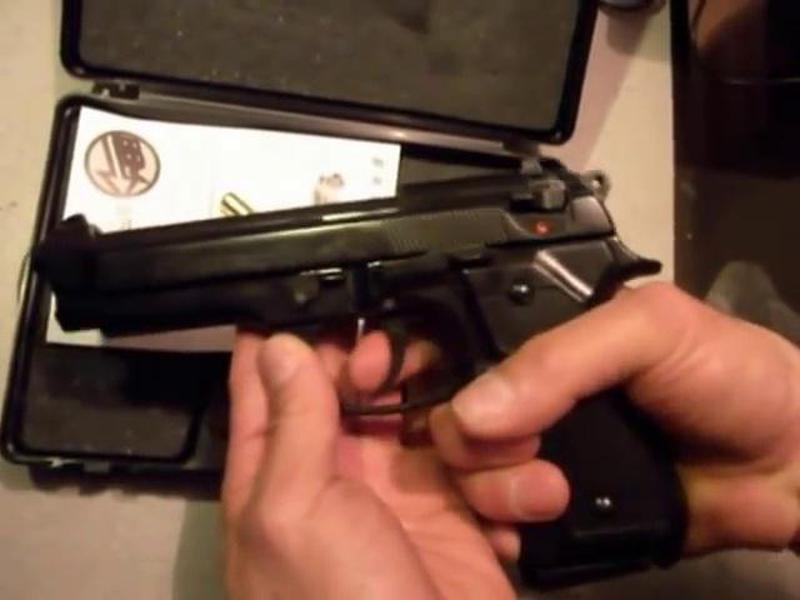Pistola: (32, 153, 677, 555)
